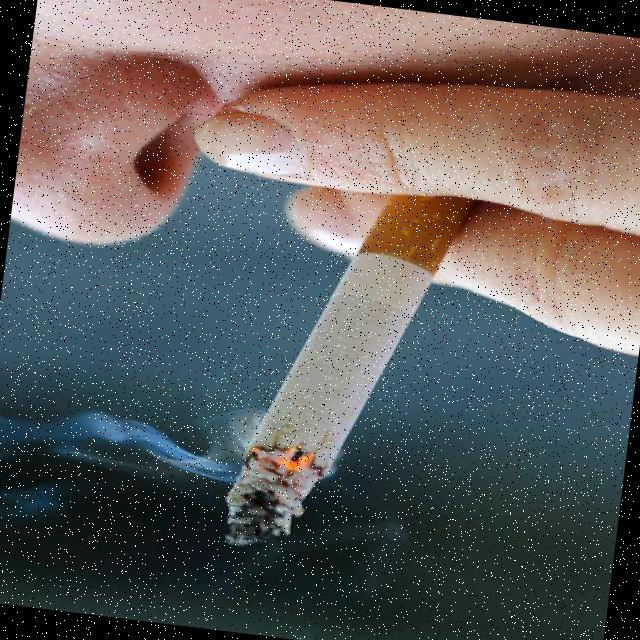cigarette: (198, 168, 491, 570)
